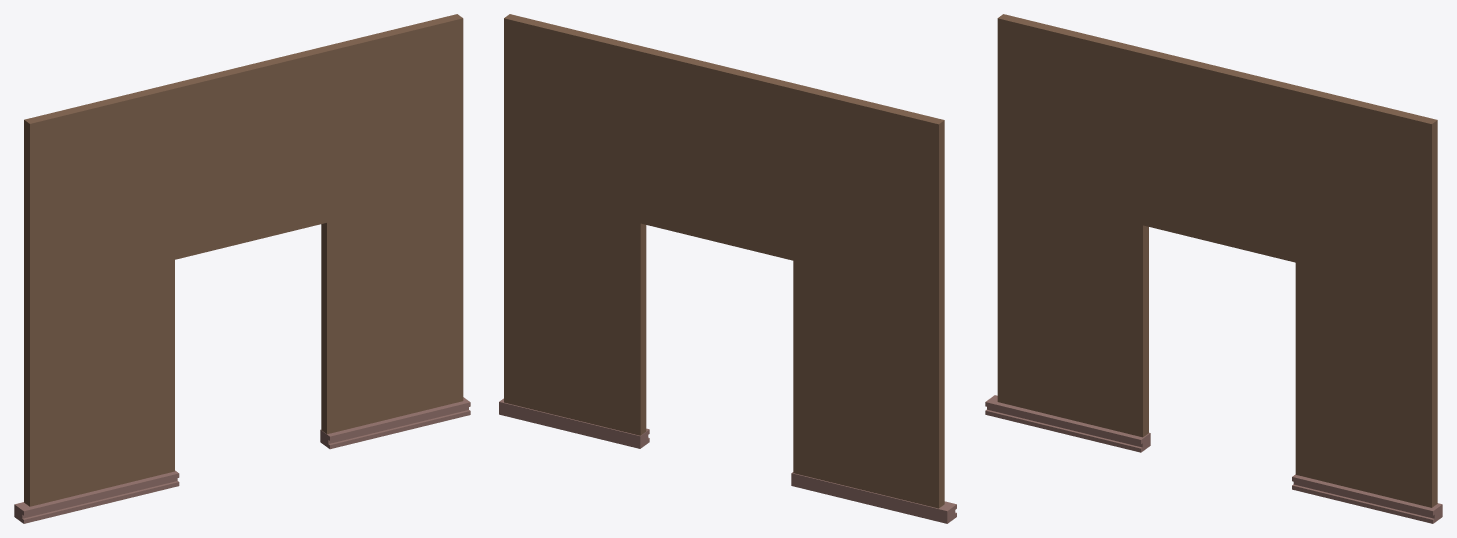
Rendered from Environment_PlainEnteranceWall_Tan.glb.
3 views of the same model, side by side, from view 1: azimuth 30°, elevation 25°; view 2: azimuth 150°, elevation 25°; view 3: azimuth 330°, elevation 25° (orthographic).
Visible parts, largest first — view 1: Wall R, Cube.007, Cube.008; view 2: Wall R, Cube.007, Cube.008; view 3: Wall R, Cube.007, Cube.008.
Part boxes in pixels (x1,y1,x2,y2): Wall R: (24,14,463,506); Cube.007: (14,470,179,523); Cube.008: (320,397,470,449); Wall R: (504,14,944,508); Cube.007: (791,472,956,523); Cube.008: (499,398,649,448); Wall R: (997,14,1437,507); Cube.007: (985,395,1150,452); Cube.008: (1292,474,1442,523).
Bounding box in the file's own units: 25.12 × 21.25 × 0.9248.
